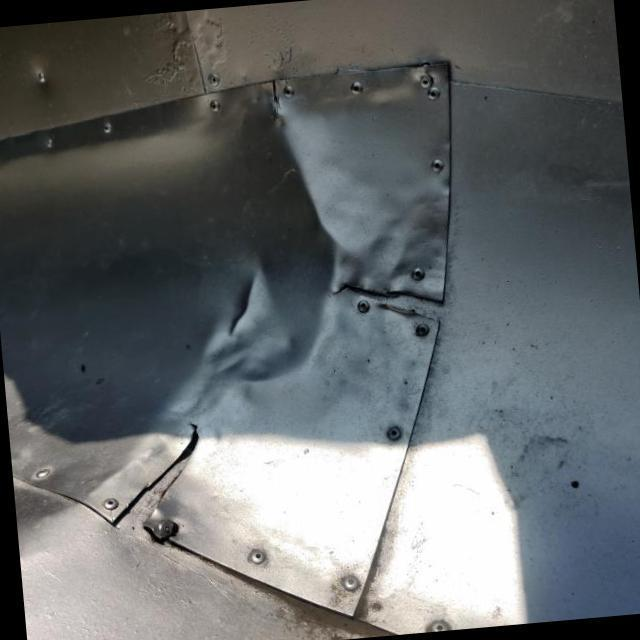dent: (162, 81, 358, 428)
